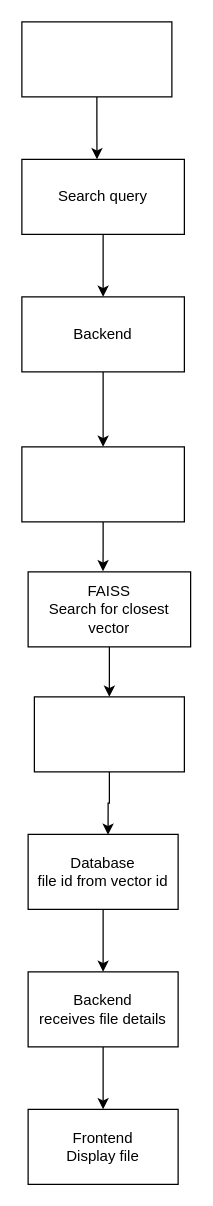
Some shapes in this 213 by 1206 pixel diagram are drawn without their labels. Each missing label, with the centre of its shape:
"Backend receives vector id" goes at (x=108, y=734).
"Embedding model search query-->vector" goes at (x=102, y=484).
"USER" goes at (x=96, y=59).
